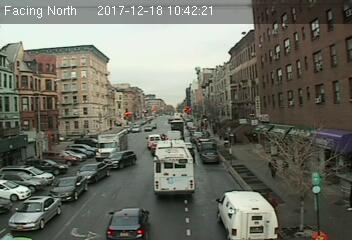bus: (153, 140, 195, 195)
car: (8, 195, 62, 228), (106, 208, 154, 239), (46, 176, 88, 197), (76, 162, 109, 182), (104, 150, 139, 166), (201, 149, 222, 165)
pedestrian: (270, 157, 277, 178)
truck: (216, 189, 279, 240), (97, 129, 127, 159)
